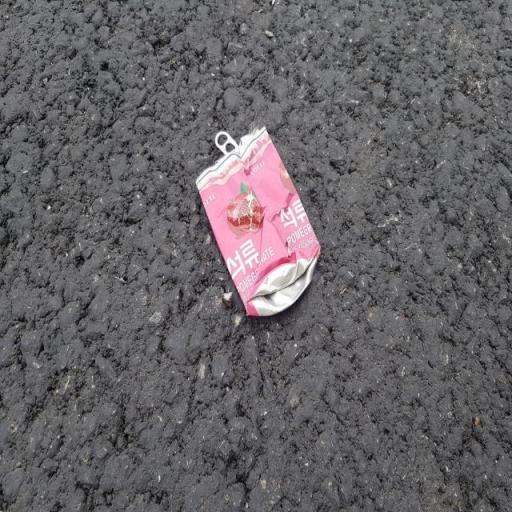metal: (186, 106, 331, 334)
